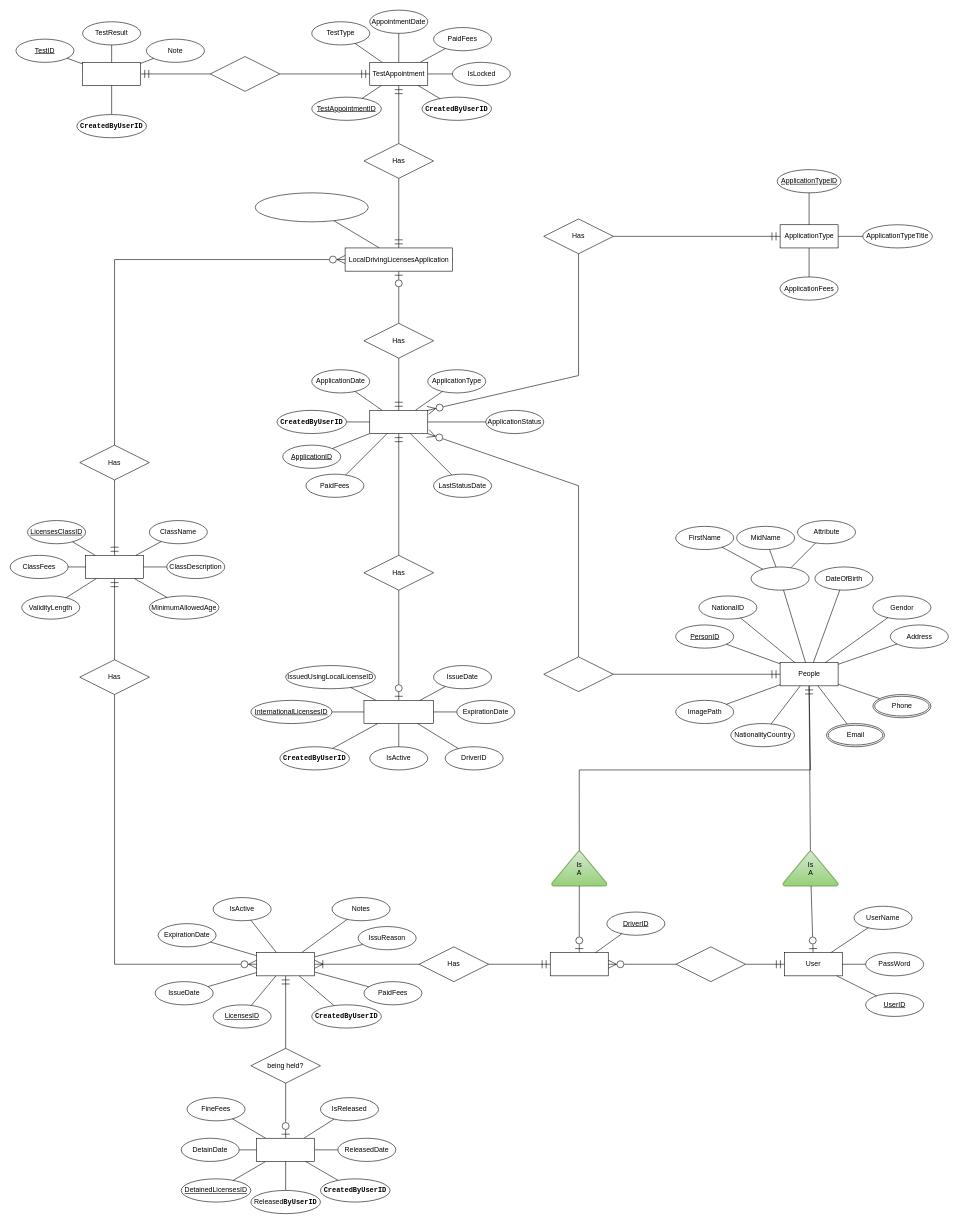
The diagram is 959 pixels wide and 1224 high, and some of its shapes have lost their labels. Each missing label, with the centre of its shape:
"( PersonName )" goes at point 780,578.
"Application" goes at point 398,422.
"DetainedLicenses" goes at point 285,1149.
"Driver" goes at point 579,964.
"InternationalLicenses" goes at point 398,712.
"Licenses" goes at point 285,964.
"LicensesClass" goes at point 114,567.
"LocalDrivingLicensesApplicationID" goes at point 311,207.
"MakeTheTest" goes at point 245,73.
"Mange" goes at point 710,964.
"Order" goes at point 578,674.
"Test" goes at point 111,74.
